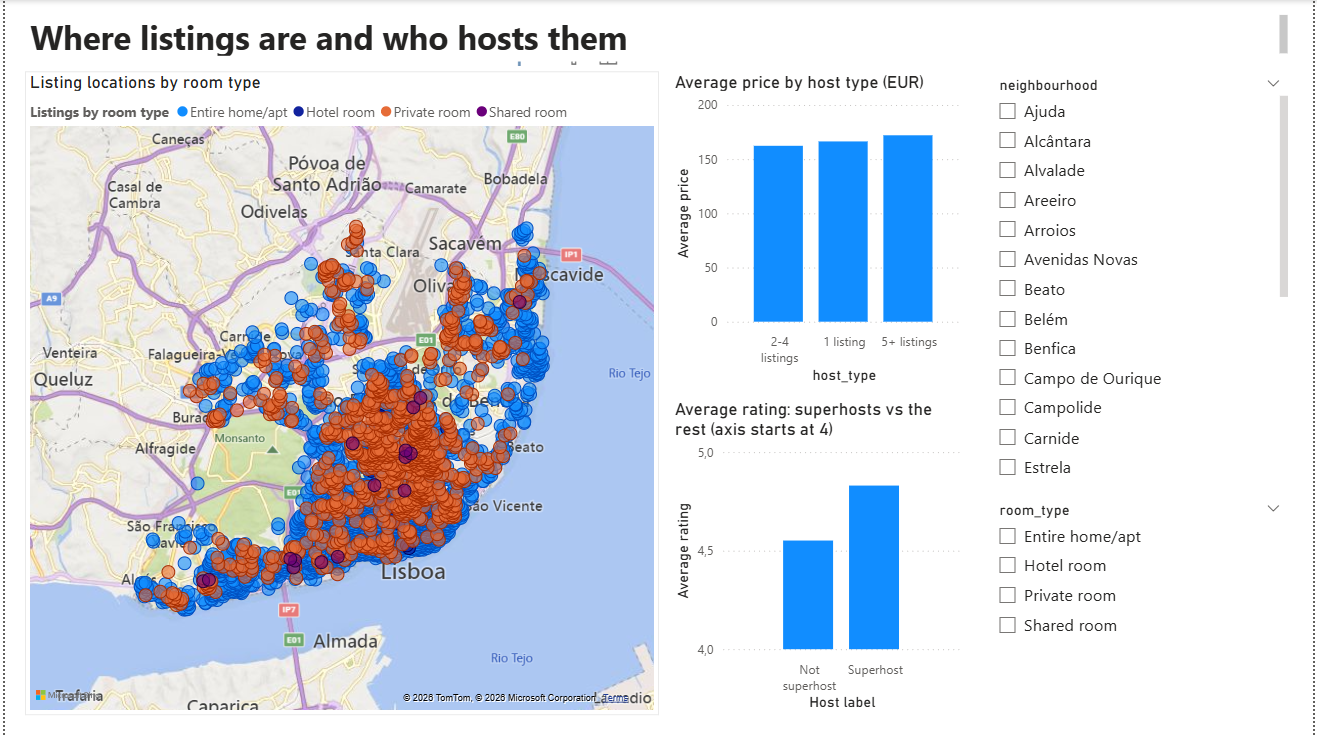

The page's visual inventory and layout, read from the dashboard file:
{"tool":"powerbi","page":{"name":"Maps and Hosts","canvas":[1280,720],"ordinal":1},"visuals":[{"type":"map","title":"Listing locations by room type","fields":{"Y":["listings_lisboa.latitude"],"X":["listings_lisboa.longitude"],"Series":["listings_lisboa.room_type"]},"box":[20,70,620,630],"z":0},{"type":"clusteredColumnChart","title":"Average price by host type (EUR)","fields":{"Category":["listings_lisboa.host_type"],"Y":["listings_lisboa.Average price"]},"box":[650,70,290,310],"z":1},{"type":"clusteredColumnChart","title":"Average rating: superhosts vs the rest (axis starts at 4)","fields":{"Category":["listings_lisboa.Host label"],"Y":["listings_lisboa.Average rating"]},"box":[650,390,290,310],"z":2},{"type":"slicer","fields":{"Values":["listings_lisboa.neighbourhood"]},"box":[960,70,300,400],"z":3},{"type":"slicer","fields":{"Values":["listings_lisboa.room_type"]},"box":[960,485,300,215],"z":4},{"type":"textbox","box":[20,10,1240,50],"z":5}]}

Visuals, with their boxes in screenshot pixels (x1, y1, x2, y2), scaled from the page's 1280x720 canvas onto the 1317x735 screenshot:
"Listing locations by room type" map: <bbox>21, 71, 658, 715</bbox>
"Average price by host type (EUR)" clusteredColumnChart: <bbox>669, 71, 967, 388</bbox>
"Average rating: superhosts vs the rest (axis starts at 4)" clusteredColumnChart: <bbox>669, 398, 967, 715</bbox>
slicer - listings_lisboa.neighbourhood: <bbox>988, 71, 1296, 480</bbox>
slicer - listings_lisboa.room_type: <bbox>988, 495, 1296, 715</bbox>
textbox: <bbox>21, 10, 1296, 61</bbox>
